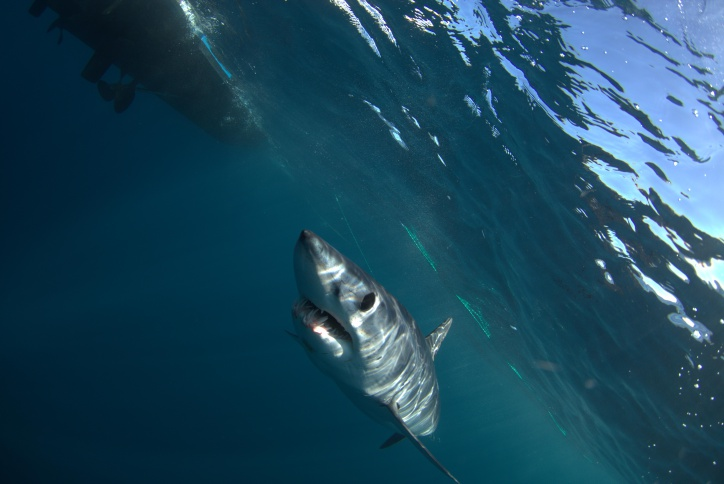Mako: (257, 210, 471, 484)
